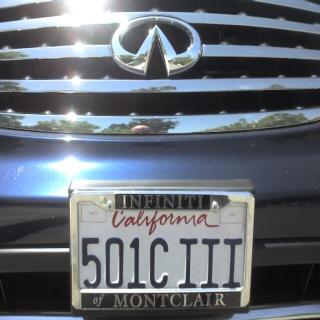license: (71, 188, 258, 310)
